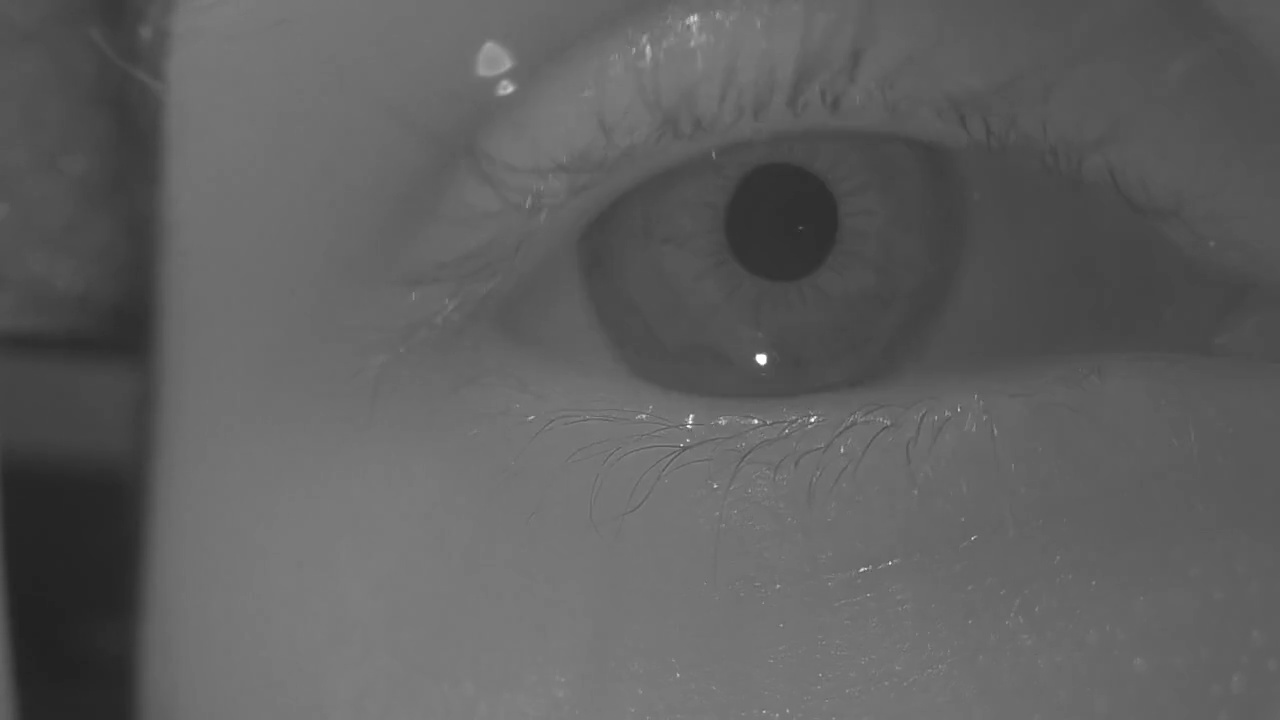pupil: (727, 165, 837, 281)
